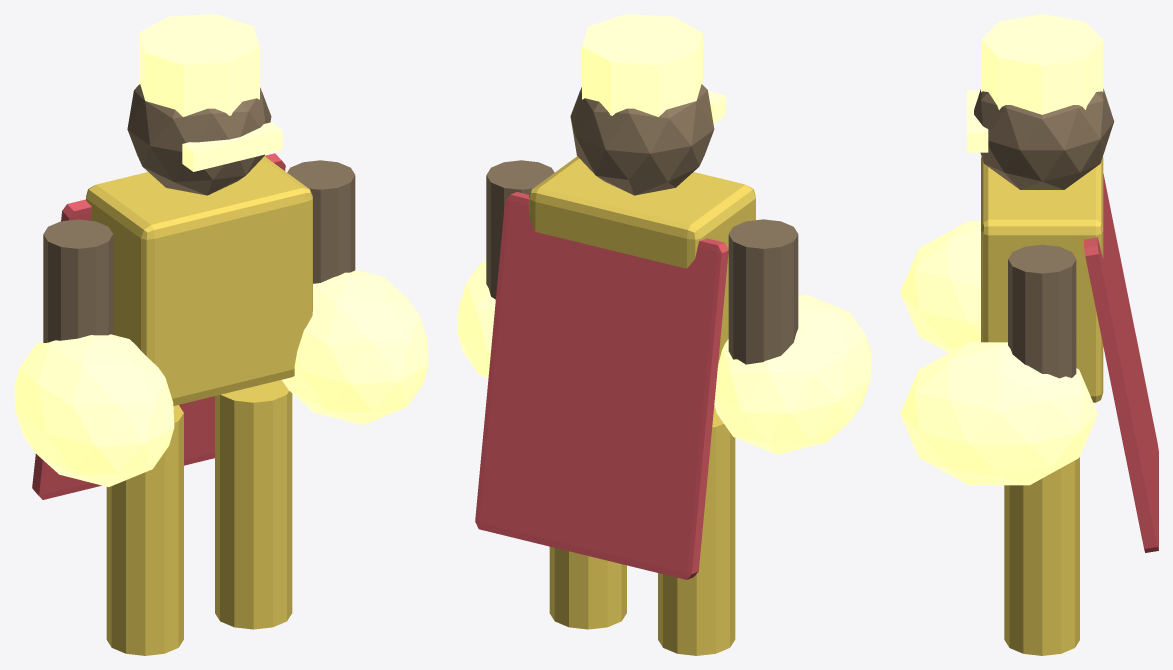
Rendered from golden_brawler_leo.fbx.
3 renders of one model, left to right at view 1: azimuth 30°, elevation 25°; view 2: azimuth 150°, elevation 25°; view 3: azimuth 270°, elevation 25°, orthographic. The views are drawn at different scales.
Visible parts, largest first — view 1: Cube, Icosphere.002, Cylinder.003, Icosphere.001, Cylinder.004, Cylinder, Icosphere, Cylinder.002, Cylinder.001, Cube.001, Cube.002; view 2: Cube.001, Icosphere.002, Cube, Cylinder.004, Cylinder, Icosphere, Cylinder.002, Cylinder.003, Cylinder.001, Icosphere.001; view 3: Icosphere.001, Cube, Cylinder.003, Cube.001, Cylinder, Icosphere, Cylinder.001, Icosphere.002, Cube.002.
Part boxes in pixels (x1=…): Cube: x1=86, y1=156, x2=312, y2=405; Icosphere.002: x1=14, y1=334, x2=174, y2=487; Cylinder.003: x1=215, y1=380, x2=292, y2=629; Icosphere.001: x1=282, y1=270, x2=428, y2=424; Cylinder.004: x1=106, y1=405, x2=183, y2=655; Cylinder: x1=139, y1=14, x2=259, y2=116; Icosphere: x1=127, y1=84, x2=271, y2=195; Cylinder.002: x1=43, y1=219, x2=113, y2=342; Cylinder.001: x1=287, y1=160, x2=355, y2=283; Cube.001: x1=32, y1=153, x2=285, y2=499; Cube.002: x1=182, y1=122, x2=282, y2=171; Cube.001: x1=475, y1=192, x2=728, y2=579; Icosphere.002: x1=714, y1=294, x2=871, y2=454; Cube: x1=529, y1=156, x2=755, y2=364; Cylinder.004: x1=658, y1=405, x2=735, y2=655; Cylinder: x1=582, y1=14, x2=702, y2=116; Icosphere: x1=570, y1=84, x2=714, y2=195; Cylinder.002: x1=728, y1=219, x2=798, y2=364; Cylinder.003: x1=549, y1=546, x2=626, y2=629; Cylinder.001: x1=486, y1=160, x2=554, y2=299; Icosphere.001: x1=457, y1=259, x2=495, y2=378; Icosphere.001: x1=900, y1=342, x2=1097, y2=485; Cube: x1=981, y1=157, x2=1103, y2=402; Cylinder.003: x1=1004, y1=457, x2=1079, y2=655; Cube.001: x1=1084, y1=173, x2=1158, y2=552; Cylinder: x1=981, y1=14, x2=1103, y2=114; Icosphere: x1=974, y1=88, x2=1114, y2=189; Cylinder.001: x1=1008, y1=244, x2=1076, y2=378; Icosphere.002: x1=900, y1=221, x2=980, y2=352; Cube.002: x1=966, y1=90, x2=988, y2=152.
Bounding box in the file's own units: 1.2 × 1.76 × 0.7189.
